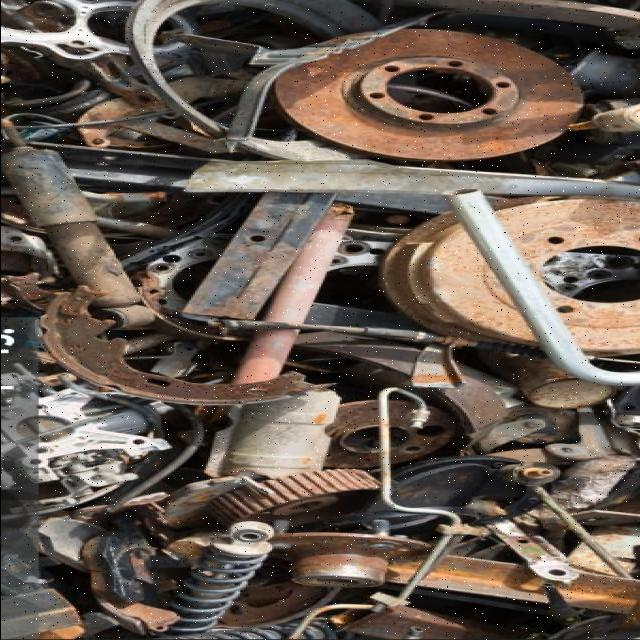shock absorber: (2, 120, 155, 331), (158, 521, 274, 635)
